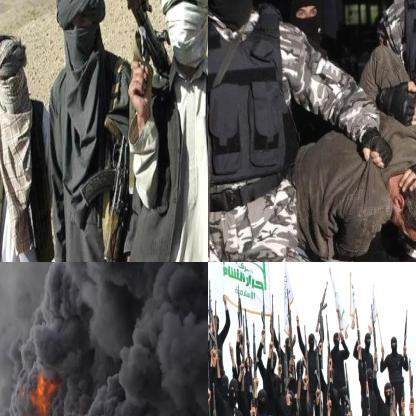rifle: (0, 262, 54, 415), (79, 114, 132, 261), (94, 0, 173, 75), (381, 388, 399, 415)
